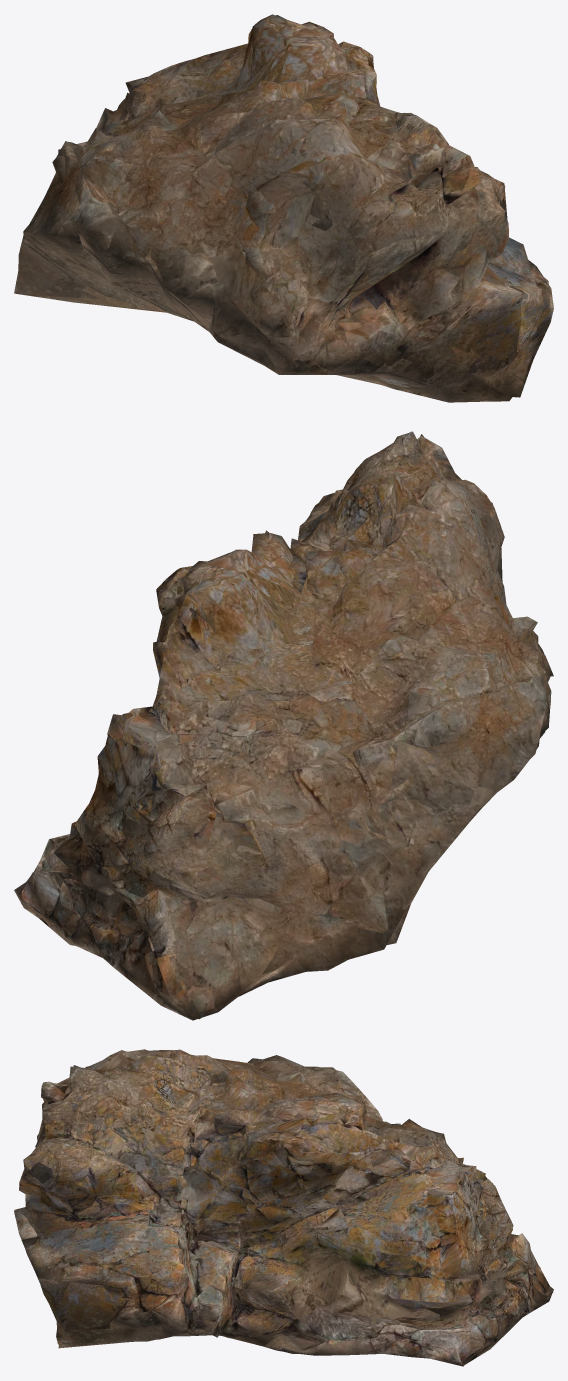
Rendered from origins-rocks.glb.
3 views of the same model, one above another, from view 1: azimuth 30°, elevation 25°; view 2: azimuth 150°, elevation 25°; view 3: azimuth 270°, elevation 25° (orthographic). The views are drawn at different scales.
Visible parts, largest first — view 1: Rock_Boulder, Rock_Boulder_Lo; view 2: Rock_Boulder, Rock_Boulder_Lo; view 3: Rock_Boulder, Rock_Boulder_Lo.
Part boxes in pixels (x1,y1,x2,y2): Rock_Boulder: (14, 14, 553, 402); Rock_Boulder_Lo: (18, 15, 550, 397); Rock_Boulder: (14, 431, 553, 1020); Rock_Boulder_Lo: (21, 431, 551, 1019); Rock_Boulder: (14, 1049, 553, 1366); Rock_Boulder_Lo: (14, 1050, 553, 1363).
Bounding box in the file's own units: 0.7003 × 0.546 × 1.
Materials: 1 (1 with a texture image).
